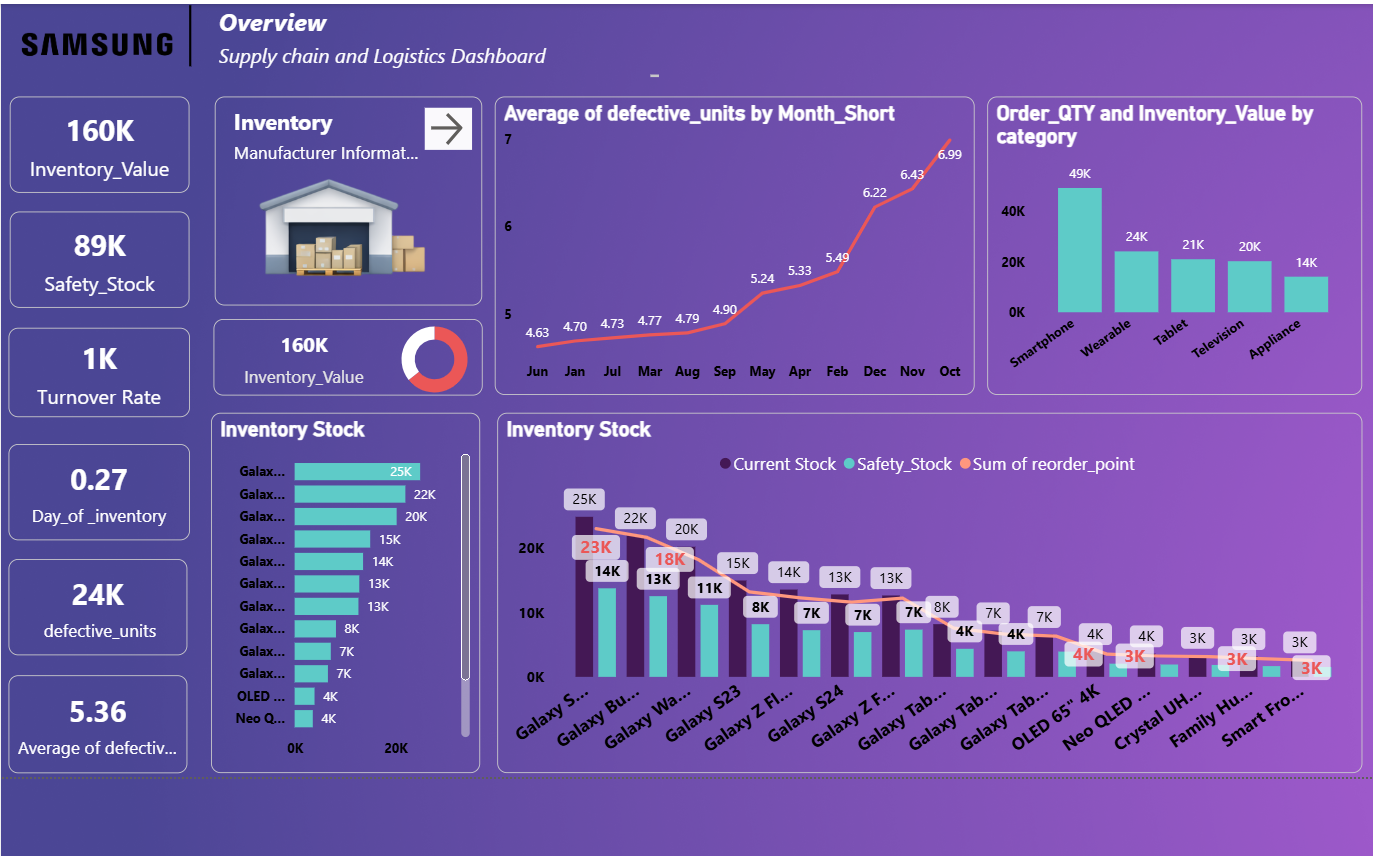

The page's visual inventory and layout, read from the dashboard file:
{"tool":"powerbi","page":{"name":"Inventory","canvas":[1280,720],"ordinal":3},"visuals":[{"type":"shape","box":[198.8,86,248.8,194.2],"z":0},{"type":"image","box":[226.3,129.8,189.9,142.4],"z":1000},{"type":"actionButton","box":[394.2,96.5,44.2,39.5],"z":2000},{"type":"textbox","title":"Inventory","box":[211.6,95.3,182.6,80.2],"z":3000},{"type":"textbox","title":"Overview","box":[197.7,0,419.8,73.3],"z":4000},{"type":"shape","box":[155.1,1.6,42.7,57],"z":5000},{"type":"image","box":[8.3,1.4,155.6,71.6],"z":6000},{"type":"card","fields":{"Values":["MeasuresTable.Safety_Stock"]},"box":[7.8,193.4,167.4,89.5],"z":7000},{"type":"card","fields":{"Values":["MeasuresTable.Turnover Rate"]},"box":[6.5,301.1,168.7,83.1],"z":8000},{"type":"card","fields":{"Values":["MeasuresTable.Day_of _inventory"]},"box":[6.5,408.8,168.7,89.5],"z":9000},{"type":"card","fields":{"Values":["Sum(fact_production.defective_units)"]},"box":[6.5,516.5,166.1,89.5],"z":10000},{"type":"card","fields":{"Values":["Avg(fact_production.defective_units)"]},"box":[6.5,624.2,166.1,90.8],"z":11000},{"type":"card","fields":{"Values":["MeasuresTable.Inventory_Value"]},"box":[7.8,85.7,167.4,89.5],"z":12000},{"type":"shape","box":[197.8,292.8,250.1,71.2],"z":13000},{"type":"card","fields":{"Values":["MeasuresTable.Inventory_Value"]},"box":[212.1,295.9,140.9,64.9],"z":14000},{"type":"clusteredBarChart","title":"Inventory Stock","fields":{"Category":["dim_product.product_name"],"Y":["MeasuresTable.Inventory_Value"]},"box":[195.3,380.2,250,334.9],"z":15000},{"type":"lineClusteredColumnComboChart","title":"Inventory Stock","fields":{"Category":["dim_product.product_name"],"Y":["MeasuresTable.Inventory_Value","MeasuresTable.Safety_Stock"],"Y2":["Sum(fact_inventory.reorder_point)"]},"box":[461.6,380.2,804.7,334.9],"z":16000},{"type":"lineChart","fields":{"Category":["dim_date.Month_Short"],"Y":["Avg(fact_production.defective_units)"]},"box":[459.3,86,446.5,277.9],"z":17000},{"type":"clusteredColumnChart","fields":{"Category":["dim_product.category"],"Y":["MeasuresTable.Order_QTY"]},"box":[917.4,86,348.8,277.9],"z":18000},{"type":"donutChart","fields":{"Y":["MeasuresTable.Inventory_Value","MeasuresTable.Safety_Stock"]},"box":[347.7,280.2,111.6,101.2],"z":19000}]}

Visuals, with their boxes on the page's 1280x720 design canvas (x1, y1, x2, y2). These are canvas units, not pixel positions in the 1373x856 screenshot, which may show the page scaled, cropped or inside an application window:
shape: x1=199, y1=86, x2=448, y2=280
image: x1=226, y1=130, x2=416, y2=272
actionButton: x1=394, y1=96, x2=438, y2=136
"Inventory" textbox: x1=212, y1=95, x2=394, y2=176
"Overview" textbox: x1=198, y1=0, x2=618, y2=73
shape: x1=155, y1=2, x2=198, y2=59
image: x1=8, y1=1, x2=164, y2=73
card - MeasuresTable.Safety_Stock: x1=8, y1=193, x2=175, y2=283
card - MeasuresTable.Turnover Rate: x1=6, y1=301, x2=175, y2=384
card - MeasuresTable.Day_of _inventory: x1=6, y1=409, x2=175, y2=498
card - Sum(fact_production.defective_units): x1=6, y1=516, x2=173, y2=606
card - Avg(fact_production.defective_units): x1=6, y1=624, x2=173, y2=715
card - MeasuresTable.Inventory_Value: x1=8, y1=86, x2=175, y2=175
shape: x1=198, y1=293, x2=448, y2=364
card - MeasuresTable.Inventory_Value: x1=212, y1=296, x2=353, y2=361
"Inventory Stock" clusteredBarChart: x1=195, y1=380, x2=445, y2=715
"Inventory Stock" lineClusteredColumnComboChart: x1=462, y1=380, x2=1266, y2=715
lineChart - dim_date.Month_Short x Avg(fact_production.defective_units): x1=459, y1=86, x2=906, y2=364
clusteredColumnChart - dim_product.category x MeasuresTable.Order_QTY: x1=917, y1=86, x2=1266, y2=364
donutChart - MeasuresTable.Inventory_Value x MeasuresTable.Safety_Stock: x1=348, y1=280, x2=459, y2=381
